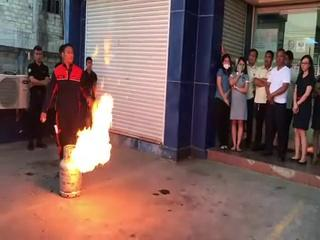Fire: (66, 92, 121, 174)
